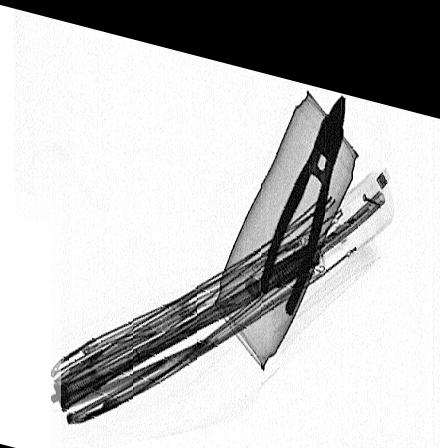Pliers: (259, 75, 348, 304)
